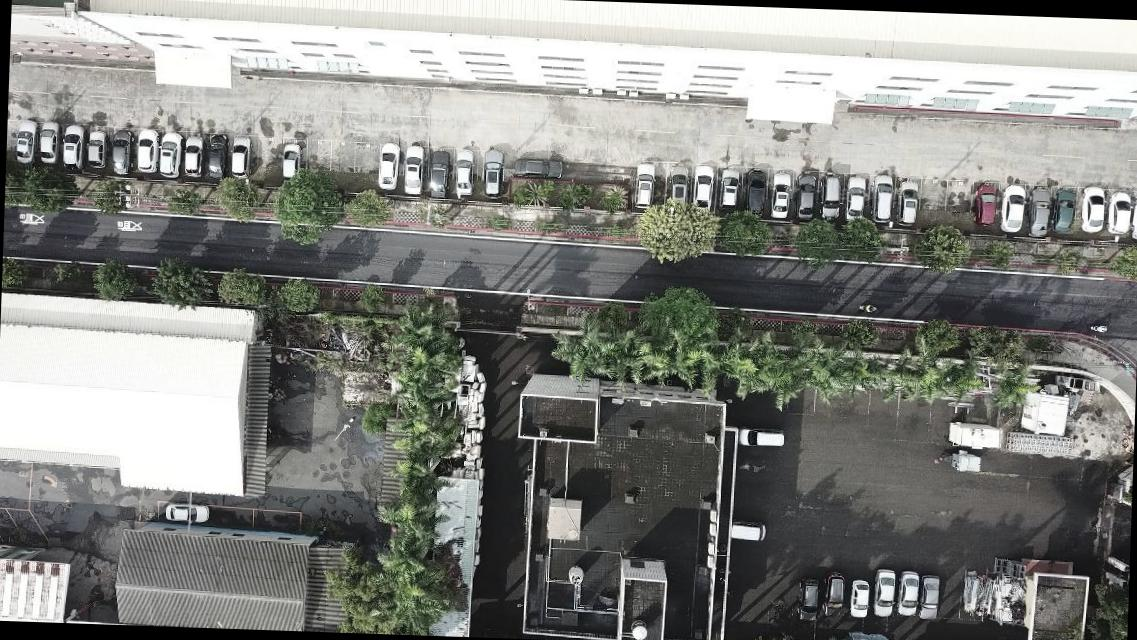vehicle: (1026, 185, 1051, 237), (481, 147, 505, 200), (1078, 186, 1104, 234), (59, 123, 85, 170), (999, 185, 1024, 233), (402, 143, 424, 196), (738, 426, 786, 450), (158, 132, 182, 180), (818, 172, 841, 222), (229, 135, 254, 181), (874, 566, 896, 618), (1106, 190, 1132, 234), (110, 129, 134, 176), (894, 572, 918, 618), (794, 170, 817, 218), (376, 142, 399, 190), (870, 174, 892, 224), (692, 164, 714, 214), (453, 148, 475, 197), (428, 150, 450, 199), (918, 576, 942, 620), (1052, 188, 1076, 232), (206, 133, 228, 181), (513, 157, 563, 178), (896, 179, 918, 226), (745, 169, 766, 218), (822, 572, 844, 617), (973, 184, 996, 227), (844, 175, 865, 222), (770, 171, 790, 220), (15, 120, 37, 164), (164, 502, 208, 524), (135, 130, 158, 172), (666, 164, 686, 212), (848, 578, 870, 621), (719, 169, 740, 214), (634, 163, 654, 210), (39, 122, 60, 166), (85, 131, 108, 171), (183, 136, 204, 178), (797, 578, 817, 622), (281, 142, 301, 184), (729, 522, 767, 542), (1130, 189, 1136, 241)
